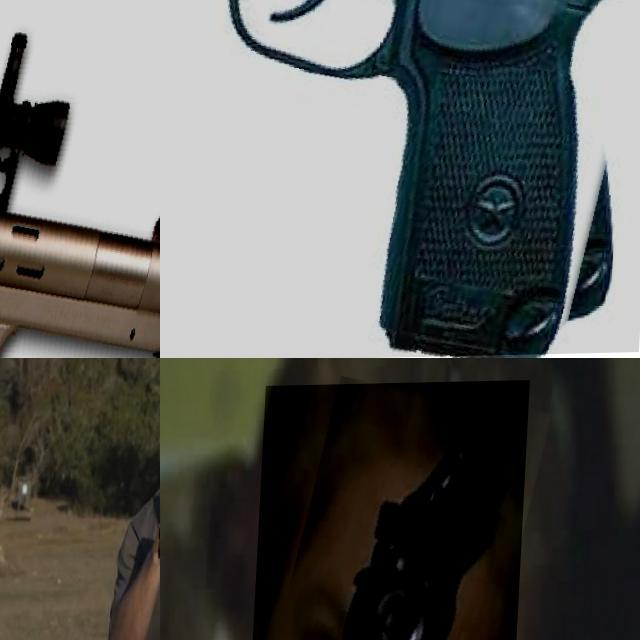gun-knife-thesis - v11 Yolov5 augmented: (160, 0, 640, 358), (245, 382, 531, 640), (0, 0, 160, 358)
